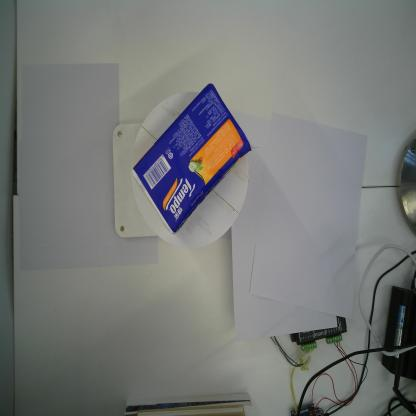Tissue: (131, 82, 252, 236)
